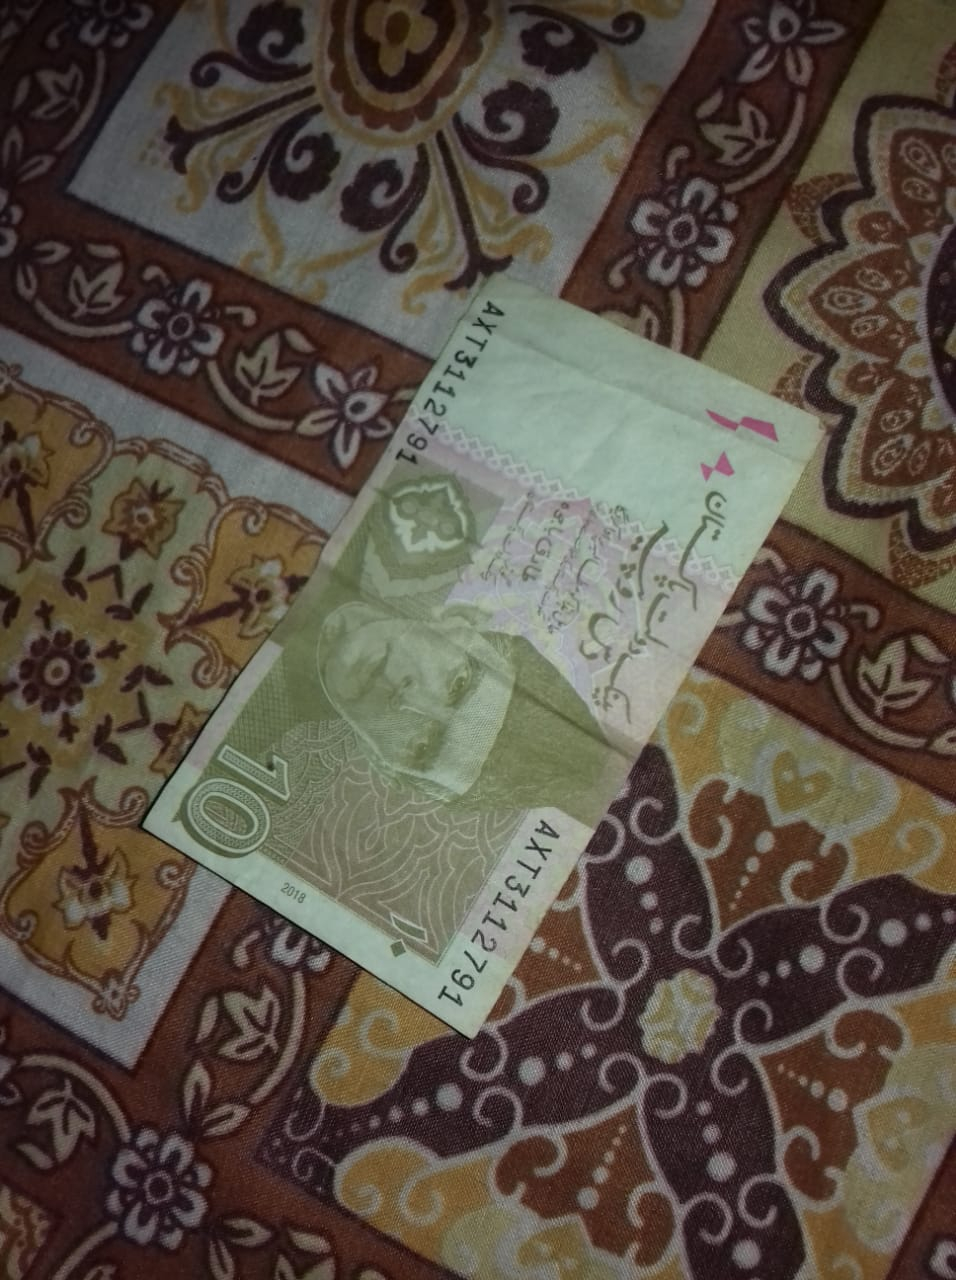10 rupee: (89, 240, 832, 1081)
